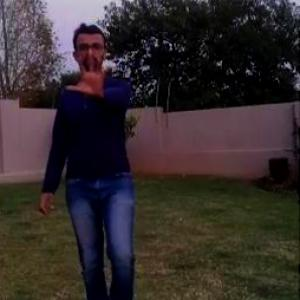follow_hand: (62, 44, 114, 100)
